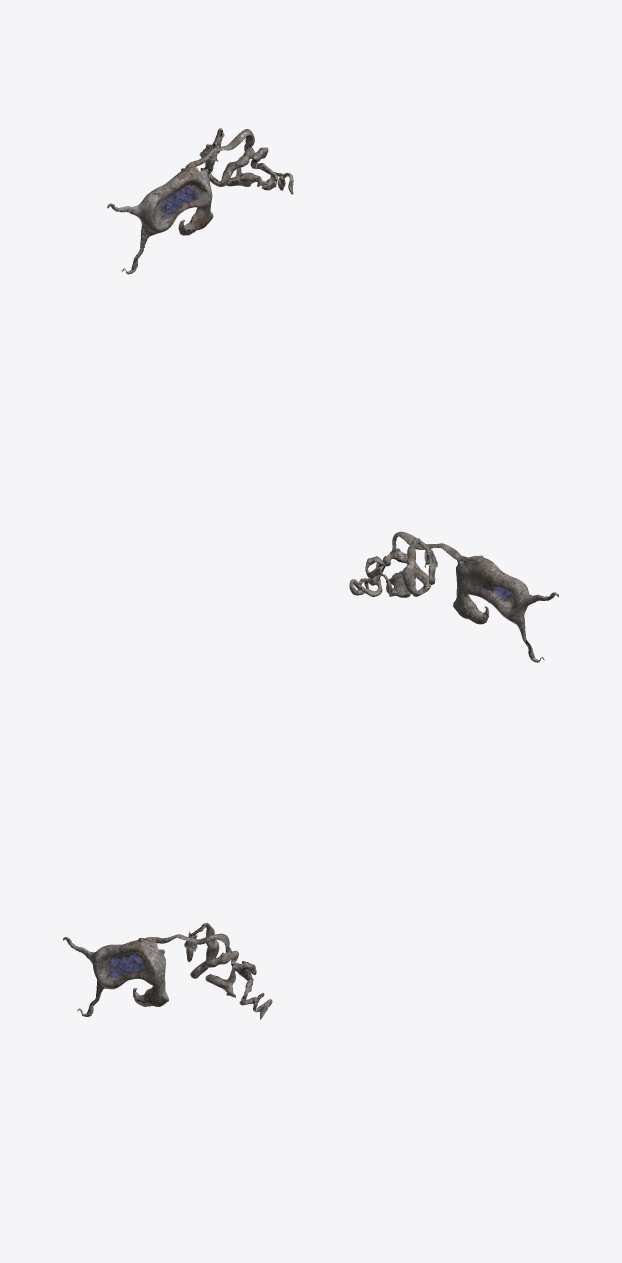
Rendered from clasp_top_middle-CKkc2Pbh.glb.
The picture shows the model from 3 angles, top to bottom: view 1: azimuth 30°, elevation 25°; view 2: azimuth 150°, elevation 25°; view 3: azimuth 330°, elevation 25°; orthographic projection.
Visible parts, largest first — view 1: body, mech; view 2: body; view 3: body, mech.
Part boxes in pixels (x1=…): body: x1=107, y1=128, x2=293, y2=274; mech: x1=161, y1=185, x2=200, y2=219; body: x1=349, y1=531, x2=558, y2=662; body: x1=63, y1=922, x2=272, y2=1019; mech: x1=107, y1=953, x2=145, y2=977.
Size of the model in its own units: 3.49 by 1.39 by 0.368.
Materials: 2 (1 with a texture image).
